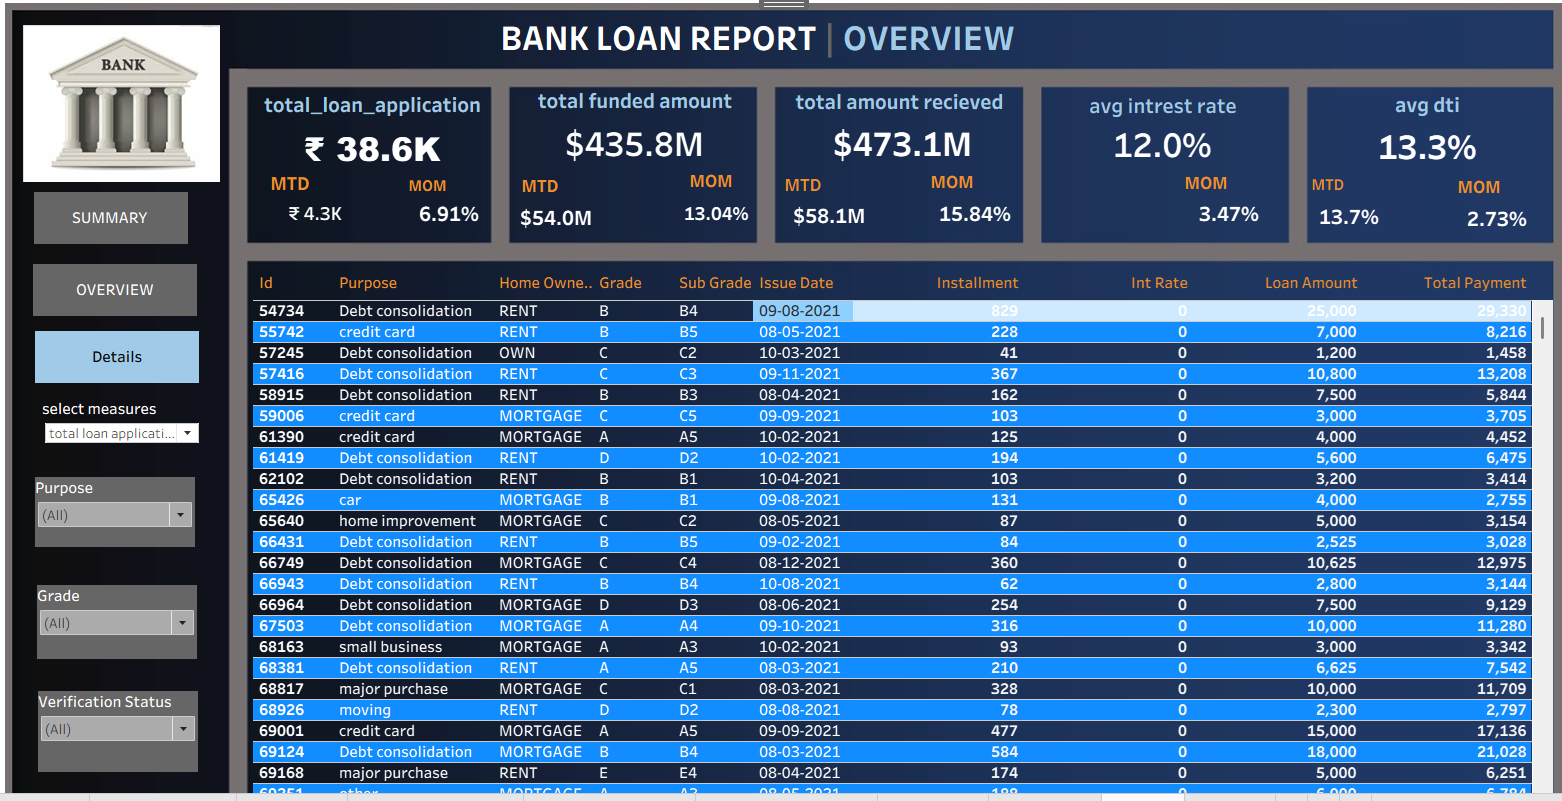

Layout of this report page (visuals, bound fields, positions):
{"tool":"tableau","page":{"name":"Details","canvas":[1600,900],"ordinal":0},"visuals":[{"type":"image","param":"C:/Users/HP/Downloads/Tableau Background 3.jpg","box":[8,8,1584,884]},{"type":"text","box":[513,23,541,45]},{"type":"image","param":"C:/Users/HP/Downloads/download.jpeg","box":[39,26,197,173]},{"type":"worksheet","title":"total funded amount","mark":"Automatic","box":[529,91,244,80]},{"type":"worksheet","title":"total amount recieved","mark":"Automatic","box":[792,92,247,79]},{"type":"worksheet","title":"total_loan_application","mark":"Automatic","box":[267,95,243,83]},{"type":"worksheet","title":"avg dti","mark":"Automatic","box":[1322,95,243,78]},{"type":"worksheet","title":"avg intrest rate","mark":"Automatic","box":[1054,96,250,72]},{"type":"text","box":[702,174,100,30]},{"type":"text","box":[943,175,100,30]},{"type":"text","box":[1197,176,100,30]},{"type":"text","box":[283,177,100,30]},{"type":"text","box":[797,178,100,30]},{"type":"text","box":[1324,178,100,30]},{"type":"text","box":[421,179,100,30]},{"type":"text","box":[534,179,100,30]},{"type":"text","box":[1470,180,100,30]},{"type":"dashboard-object","box":[50,201,154,52]},{"type":"worksheet","title":"MOM funded amount","mark":"Automatic","box":[696,202,73,41]},{"type":"worksheet","title":"MOM amount recieved","mark":"Automatic","box":[949,206,84,32]},{"type":"worksheet","title":"MTD loan application","mark":"Automatic","box":[288,207,86,31]},{"type":"worksheet","title":"MTD amount recieved","mark":"Automatic","box":[796,208,95,33]},{"type":"worksheet","title":"MTD avg DTI","mark":"Automatic","box":[1322,208,86,35]},{"type":"worksheet","title":"MOM loan application ","mark":"Automatic","box":[424,209,82,27]},{"type":"worksheet","title":"MOM avg int rate","mark":"Automatic","box":[1195,209,100,27]},{"type":"worksheet","title":"MOM avg dti","mark":"Automatic","box":[1466,210,94,35]},{"type":"worksheet","title":"MTD funded amount","mark":"Automatic","box":[527,212,92,28]},{"type":"dashboard-object","box":[49,273,164,52]},{"type":"worksheet","title":"detalis tab","mark":"Automatic","rows":["id","purpose","home_ownership","grade","sub_grade","issue_date"],"box":[269,273,1300,537]},{"type":"dashboard-object","box":[51,340,164,52]},{"type":"parameter","param":"[Parameters].[Parameter 1]","box":[58,407,160,48]},{"type":"filter","title":"MOM amount recieved","param":"[federated.120kebf0at2c3s12benhf1fhnnxb].[none:purpose:nk]","box":[51,486,160,70]},{"type":"filter","title":"MOM amount recieved","param":"[federated.120kebf0at2c3s12benhf1fhnnxb].[none:grade:nk]","box":[53,594,160,74]},{"type":"filter","title":"MOM amount recieved","param":"[federated.120kebf0at2c3s12benhf1fhnnxb].[none:verification_status:nk]","box":[54,700,160,81]}]}

Visuals, with their boxes on the page's 1600x900 design canvas (x1, y1, x2, y2). These are canvas units, not pixel positions in the 1562x801 screenshot, which may show the page scaled, cropped or inside an application window:
image: Rect(8, 8, 1592, 892)
text: Rect(513, 23, 1054, 68)
image: Rect(39, 26, 236, 199)
"total funded amount" worksheet: Rect(529, 91, 773, 171)
"total amount recieved" worksheet: Rect(792, 92, 1039, 171)
"total_loan_application" worksheet: Rect(267, 95, 510, 178)
"avg dti" worksheet: Rect(1322, 95, 1565, 173)
"avg intrest rate" worksheet: Rect(1054, 96, 1304, 168)
text: Rect(702, 174, 802, 204)
text: Rect(943, 175, 1043, 205)
text: Rect(1197, 176, 1297, 206)
text: Rect(283, 177, 383, 207)
text: Rect(797, 178, 897, 208)
text: Rect(1324, 178, 1424, 208)
text: Rect(421, 179, 521, 209)
text: Rect(534, 179, 634, 209)
text: Rect(1470, 180, 1570, 210)
dashboard-object: Rect(50, 201, 204, 253)
"MOM funded amount" worksheet: Rect(696, 202, 769, 243)
"MOM amount recieved" worksheet: Rect(949, 206, 1033, 238)
"MTD loan application" worksheet: Rect(288, 207, 374, 238)
"MTD amount recieved" worksheet: Rect(796, 208, 891, 241)
"MTD avg DTI" worksheet: Rect(1322, 208, 1408, 243)
"MOM loan application " worksheet: Rect(424, 209, 506, 236)
"MOM avg int rate" worksheet: Rect(1195, 209, 1295, 236)
"MOM avg dti" worksheet: Rect(1466, 210, 1560, 245)
"MTD funded amount" worksheet: Rect(527, 212, 619, 240)
dashboard-object: Rect(49, 273, 213, 325)
"detalis tab" worksheet: Rect(269, 273, 1569, 810)
dashboard-object: Rect(51, 340, 215, 392)
parameter: Rect(58, 407, 218, 455)
"MOM amount recieved" filter: Rect(51, 486, 211, 556)
"MOM amount recieved" filter: Rect(53, 594, 213, 668)
"MOM amount recieved" filter: Rect(54, 700, 214, 781)
